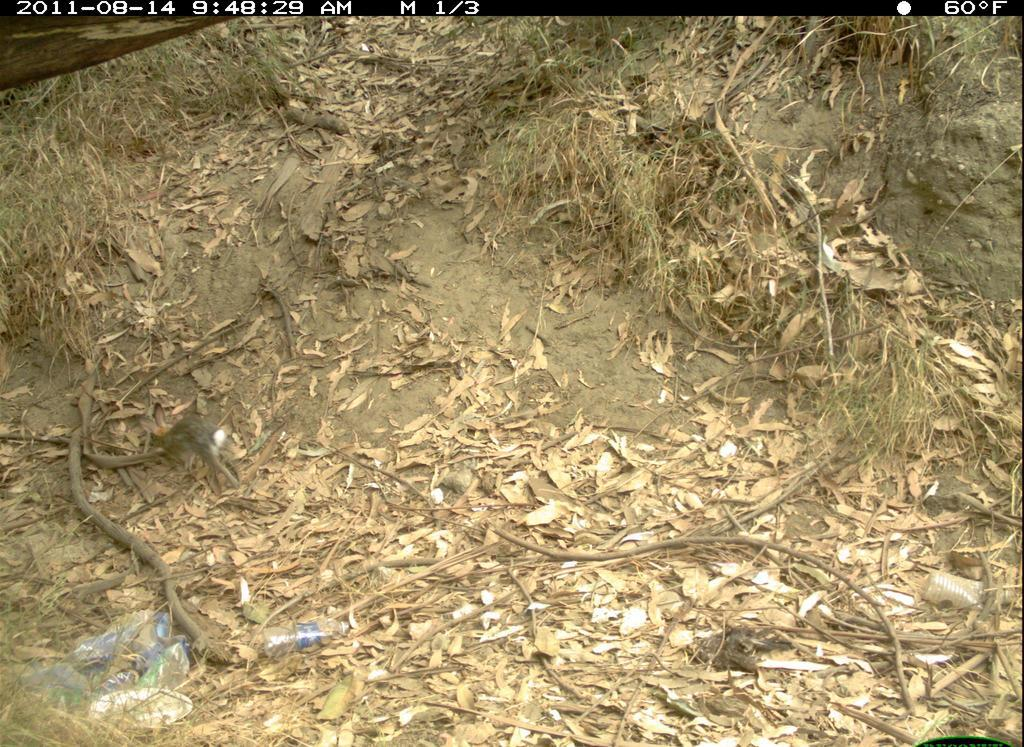rabbit: (135, 396, 255, 493)
